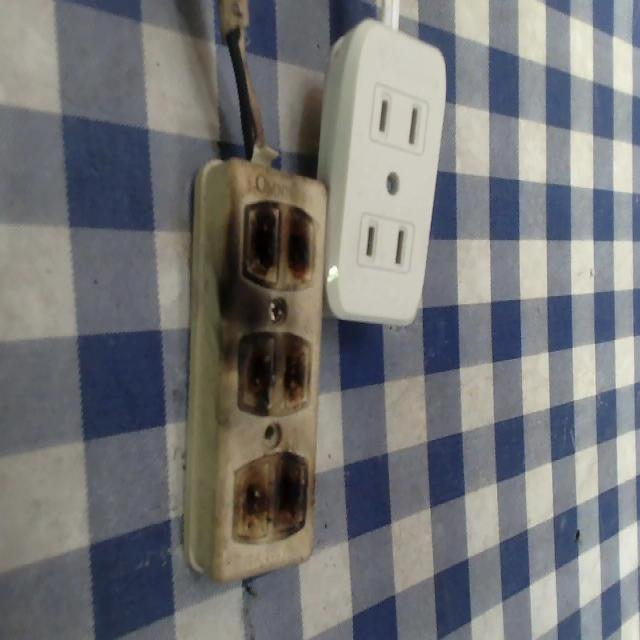-: (228, 447, 310, 544), (237, 196, 317, 292), (235, 330, 315, 418)
